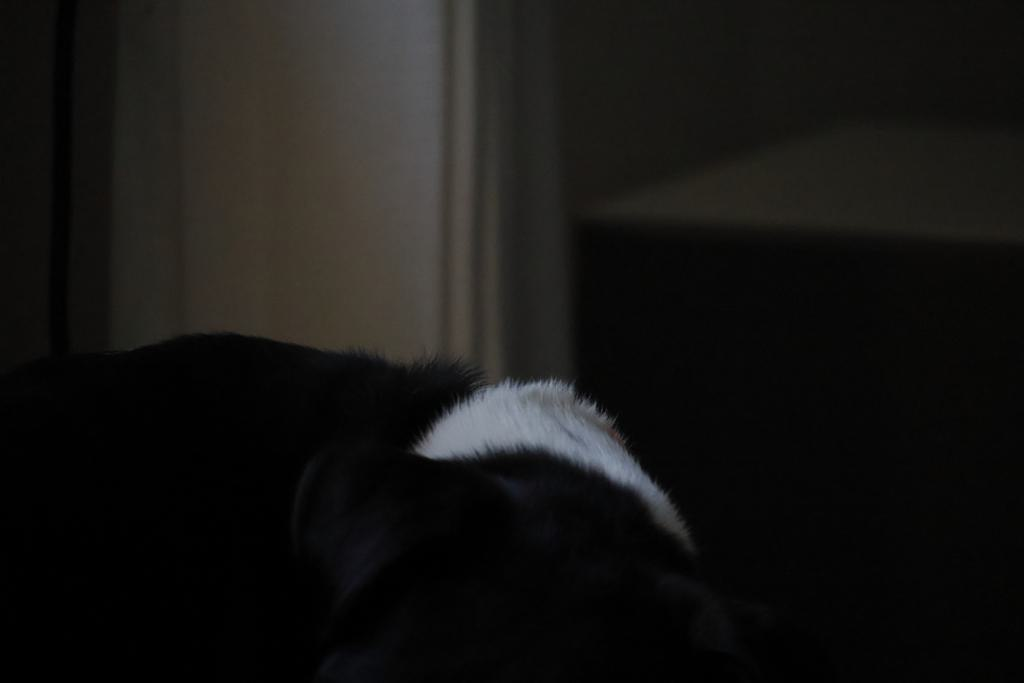Dog: (0, 307, 801, 683)
